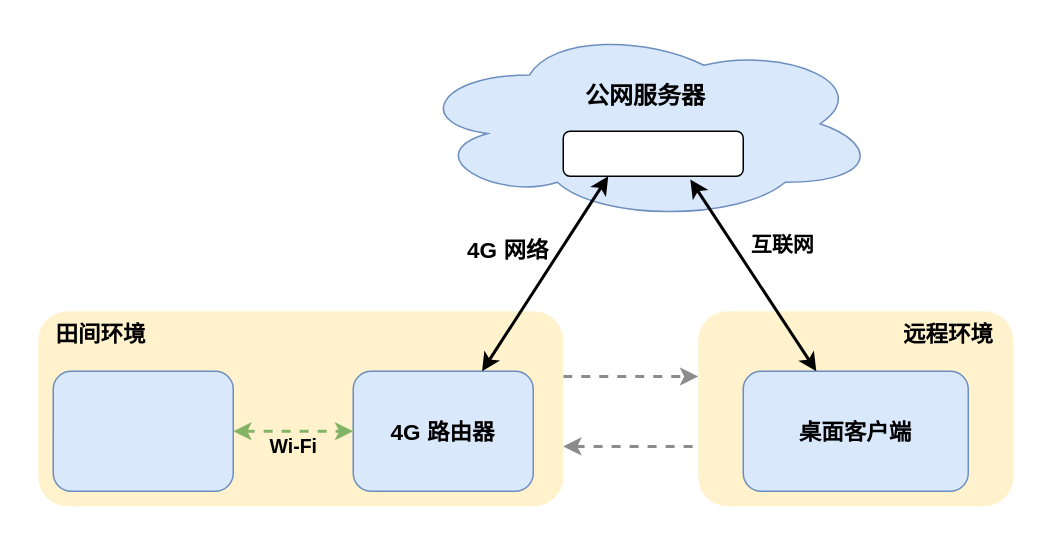
The diagram is 1049 pixels wide and 533 high, and some of its shapes have lost their labels. The centre of each missing label's shape, as x and y in pixels:
RedEdge 相机: [142,430]
数据转发程序: [652,153]
